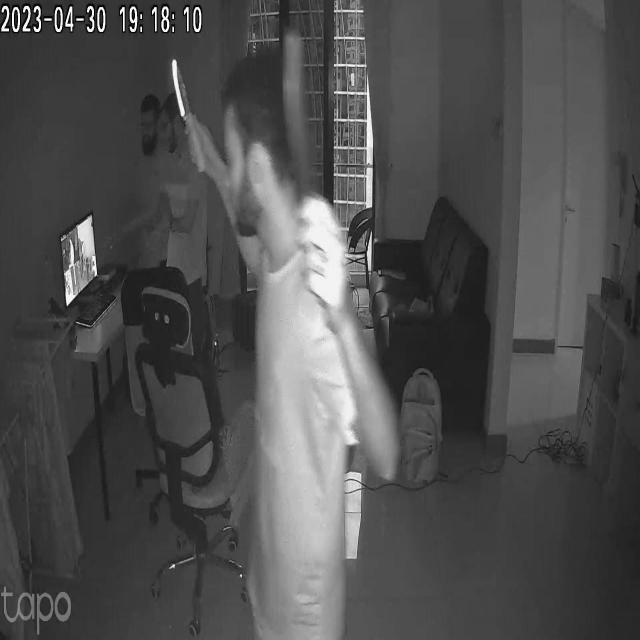Knife: (274, 38, 338, 240), (163, 59, 206, 152)
